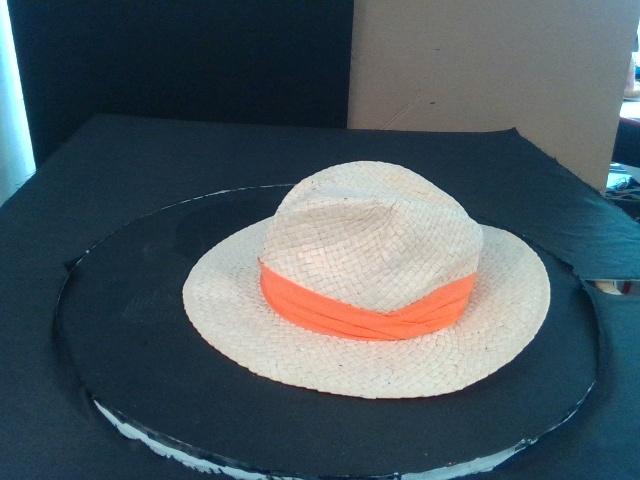hat: (181, 161, 552, 399)
